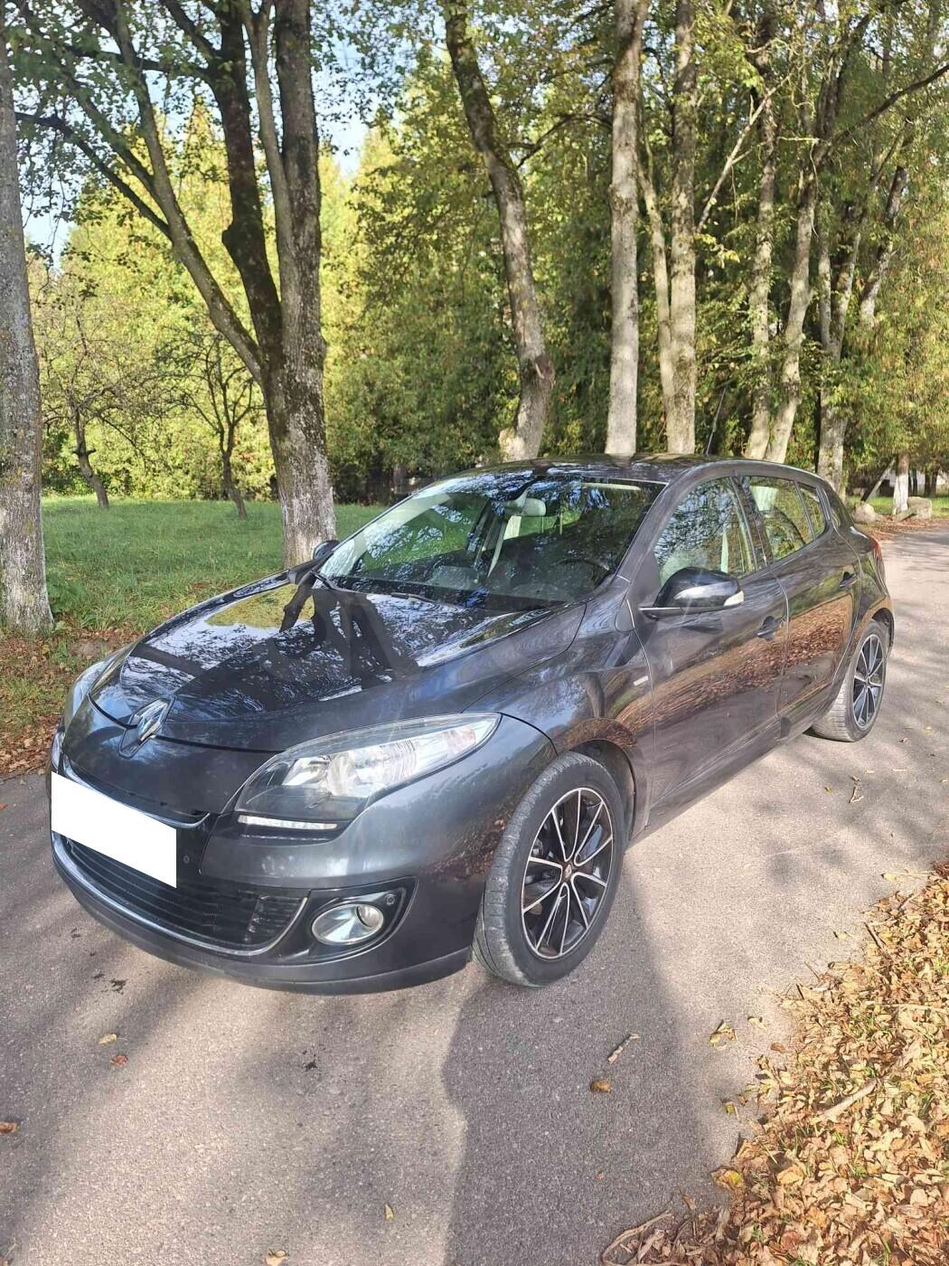Megane_2012-2014: (61, 452, 895, 982)
